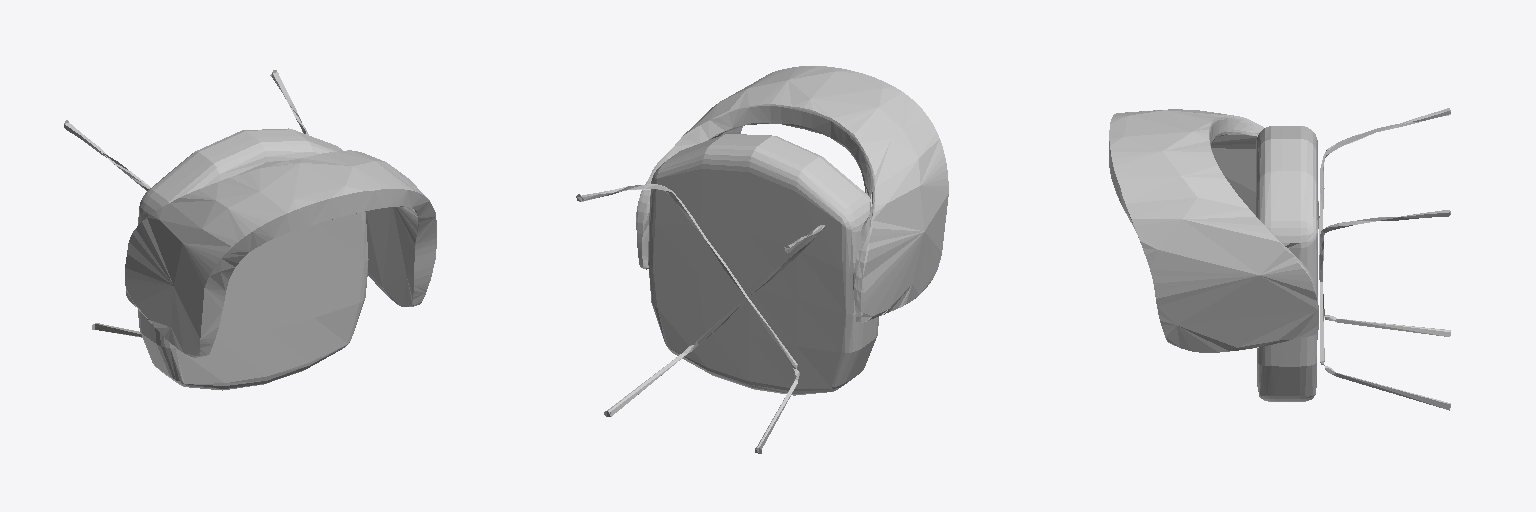
Rendered from chair_0590_Clustering_90pct.obj.
3 renders of one model, left to right at view 1: azimuth 30°, elevation 25°; view 2: azimuth 150°, elevation 25°; view 3: azimuth 270°, elevation 25°, orthographic.
Bounding box in the file's own units: 0.8045 × 0.8038 × 0.9999.